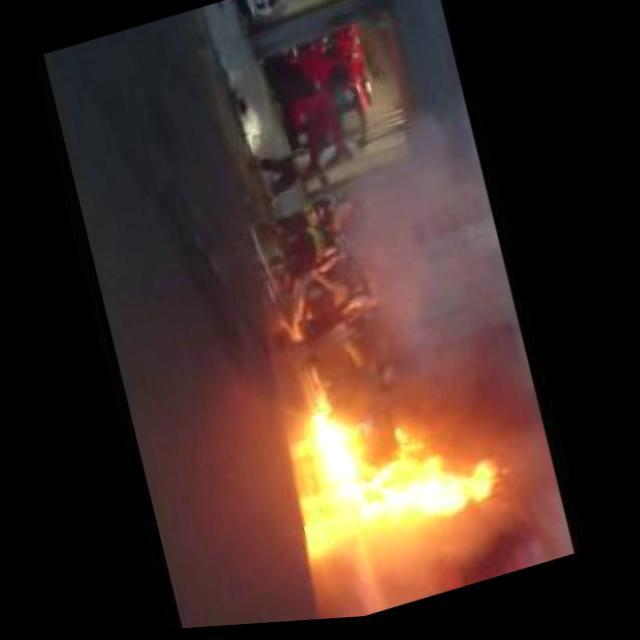fire: (296, 356, 507, 568)
